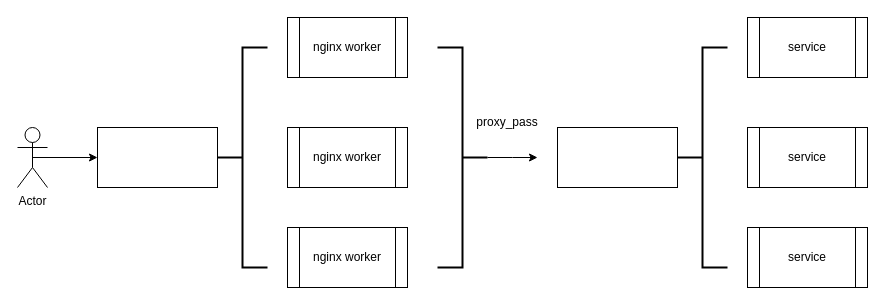
Image size: 885x305. Some labels were removed from this diagram. The shapes that lost their labels are listed below. From the top down, each one's box as (x1, y1, x2, y2) in pixels, then its label:
(96, 126, 218, 188): NoEngine(openresty)
(556, 126, 678, 188): Sandwich
